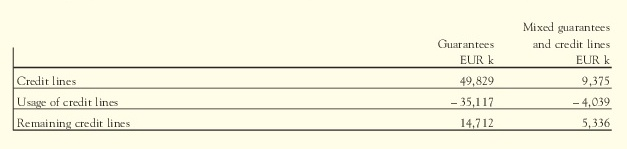table: (0, 0, 627, 149)
